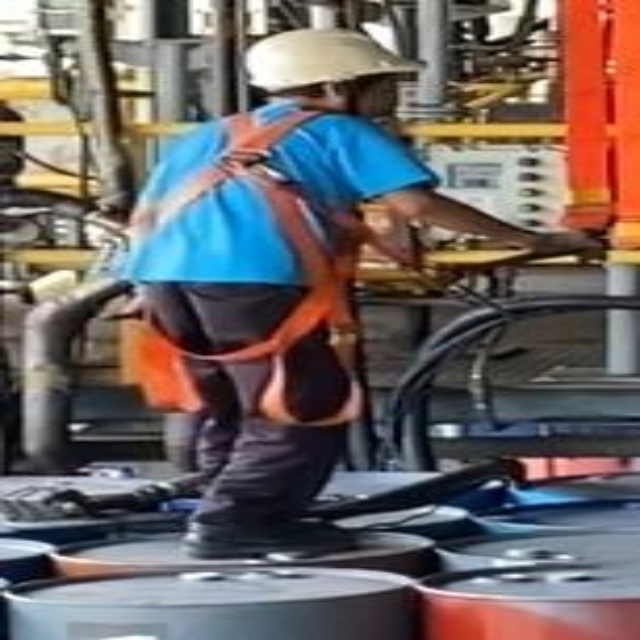Arnes_seguridad: (115, 107, 373, 429)
